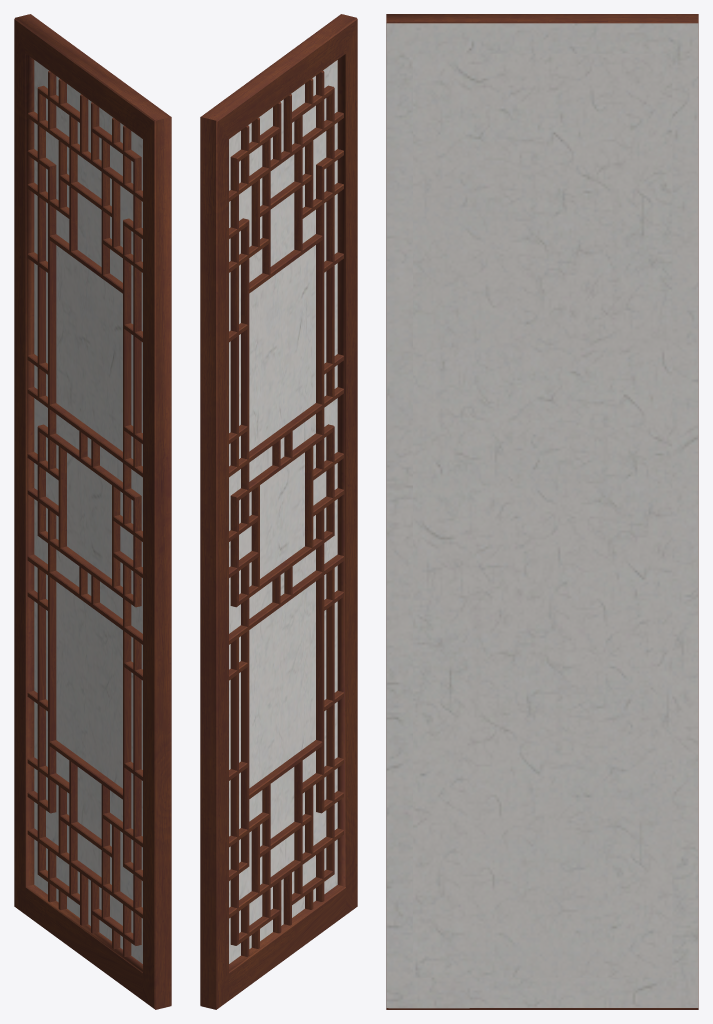
Rendered from SM_Door16E.fbx.
The picture shows the model from 3 angles, left to right: view 1: azimuth 30°, elevation 25°; view 2: azimuth 150°, elevation 25°; view 3: azimuth 270°, elevation 25°; orthographic projection. The views are drawn at different scales.
Parts seen in each view (by area): view 1: SM_Door16E; view 2: SM_Door16E; view 3: SM_Door16E.
Boxes of the visible parts, x1,y1,x2,y2 form: SM_Door16E: (14, 14, 171, 1009); SM_Door16E: (200, 14, 357, 1009); SM_Door16E: (386, 14, 698, 1009).
Bounding box in the file's own units: 3.47 × 49.31 × 172.
